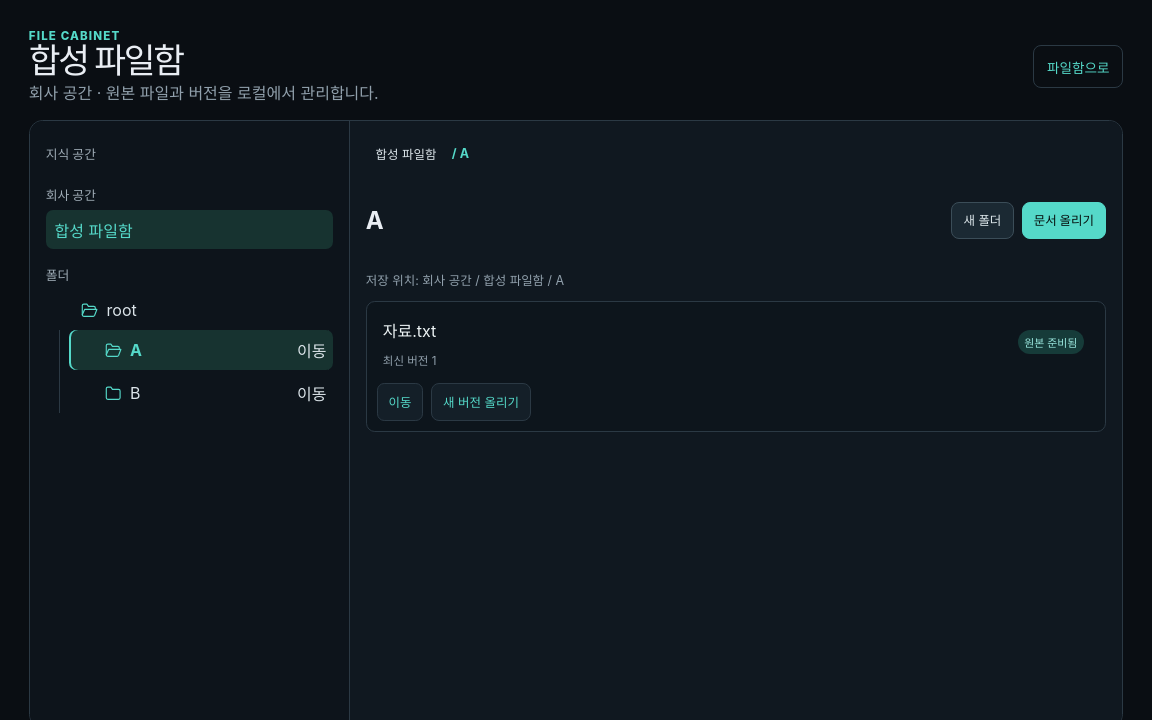
Test: cancels with Escape and restores opener focus without moving
The width and height of the screenshot is (1152, 720).
Step 1. Click the button with aria-label "자료.txt 이동" → point(400, 402), box x1=377 y1=383 x2=423 y2=421
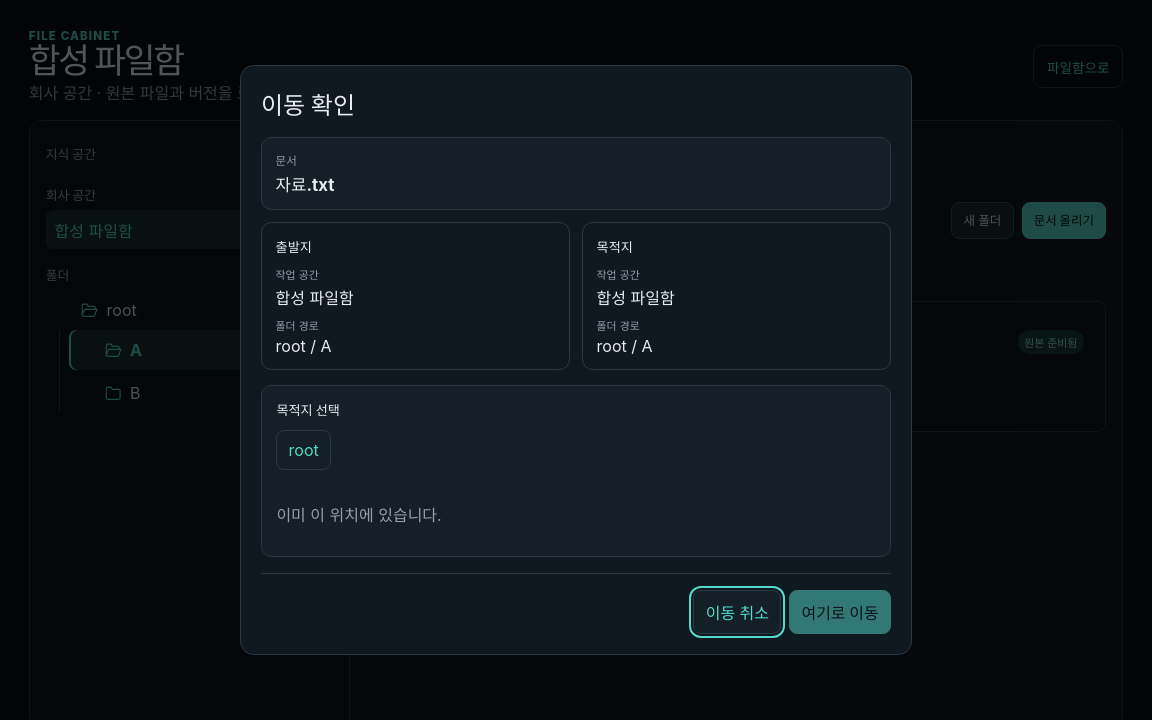
Step 2. Click the button "root" → point(304, 450), box x1=276 y1=430 x2=331 y2=470
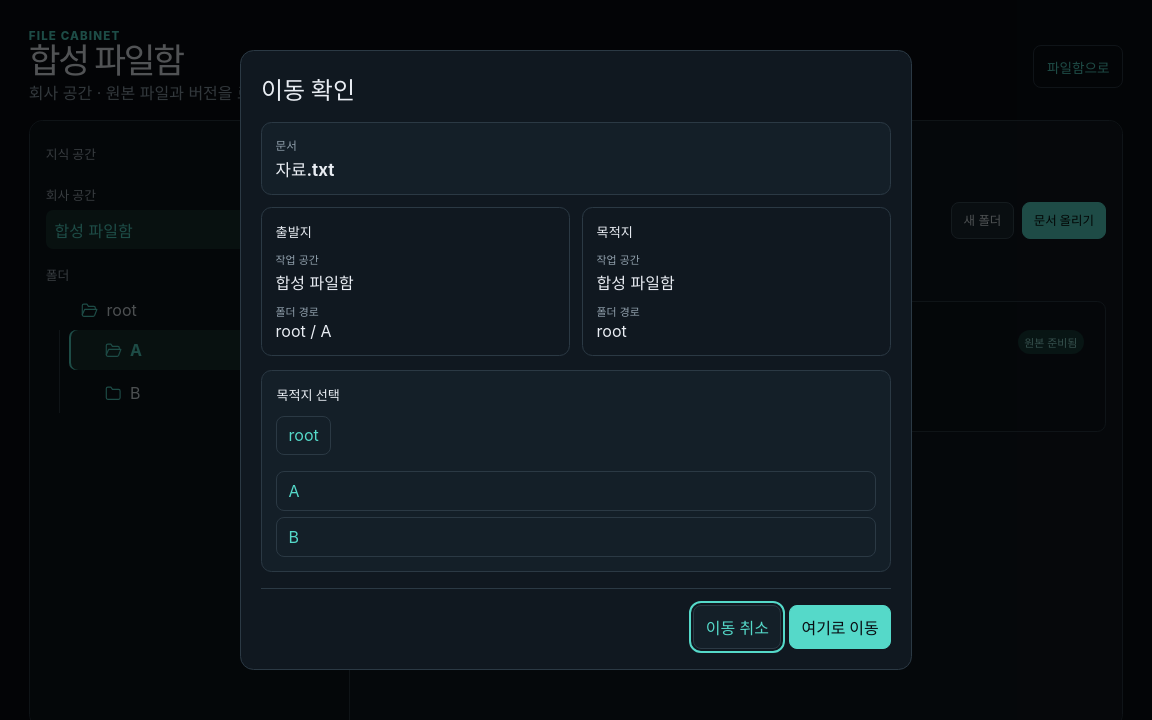
Step 3. Click the button named "B 목적지 열기" → point(294, 537), box x1=276 y1=517 x2=876 y2=557
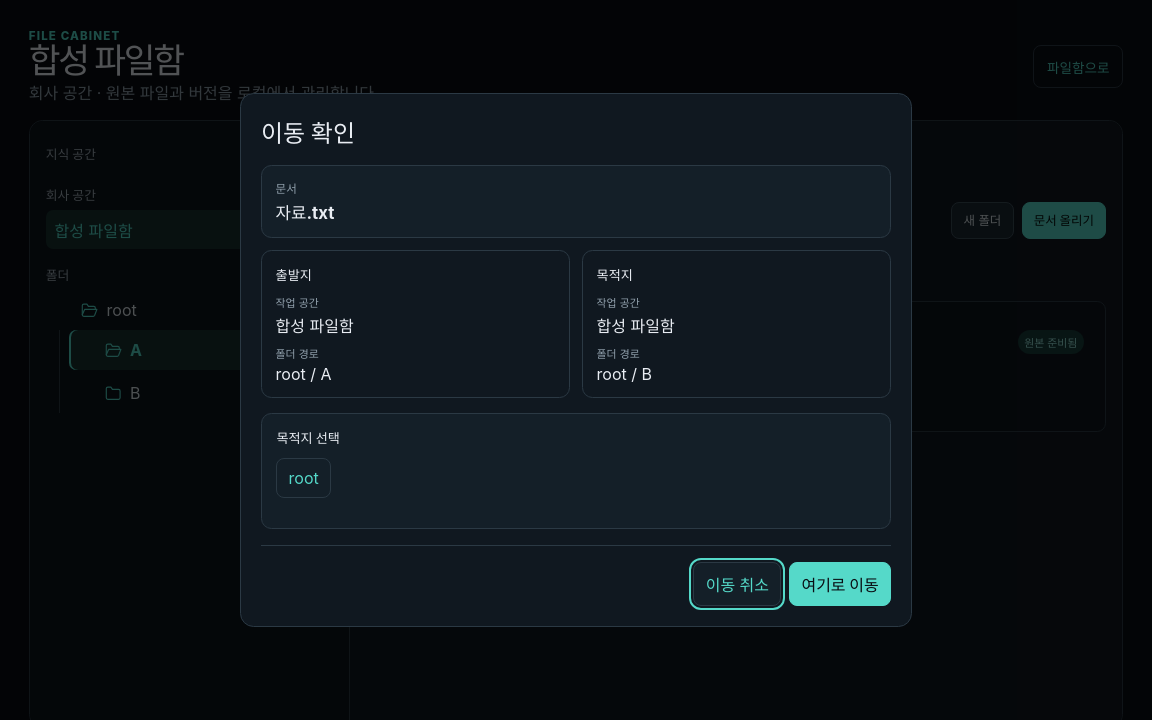
Now the button "여기로 이동" is enabled, box x1=789 y1=562 x2=891 y2=606
Step 4. Press Escape
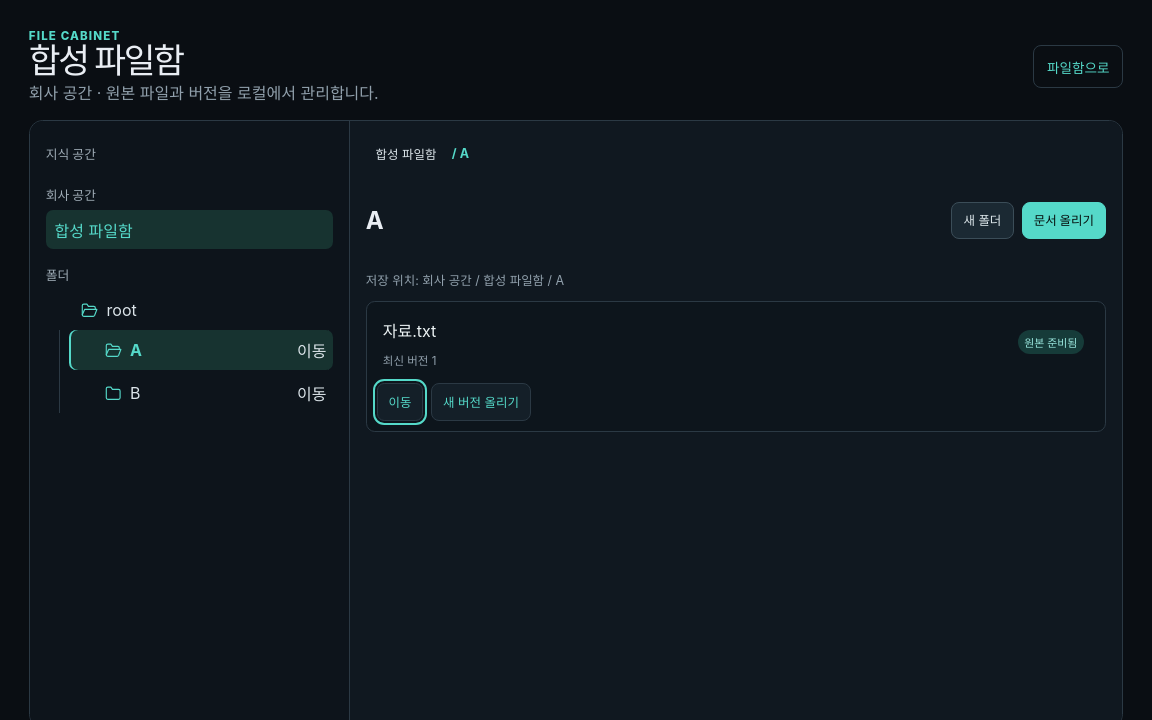
Now the dialog is gone
